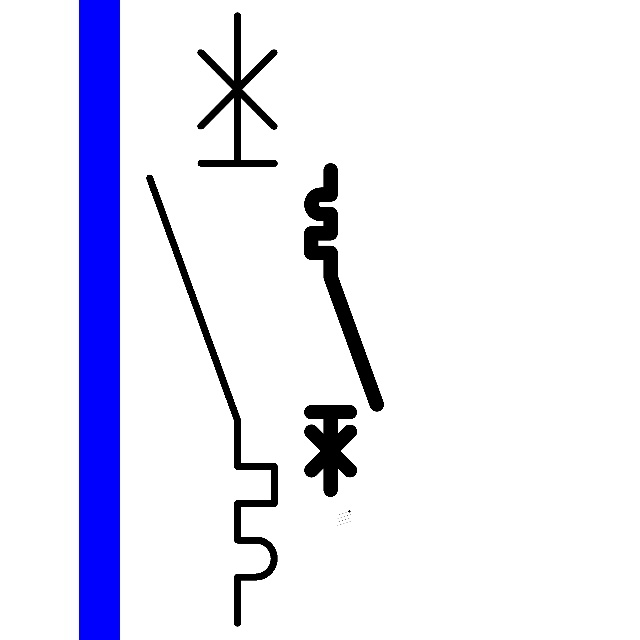interruptor_termomagnetico: (134, 0, 290, 639), (303, 162, 385, 497)
